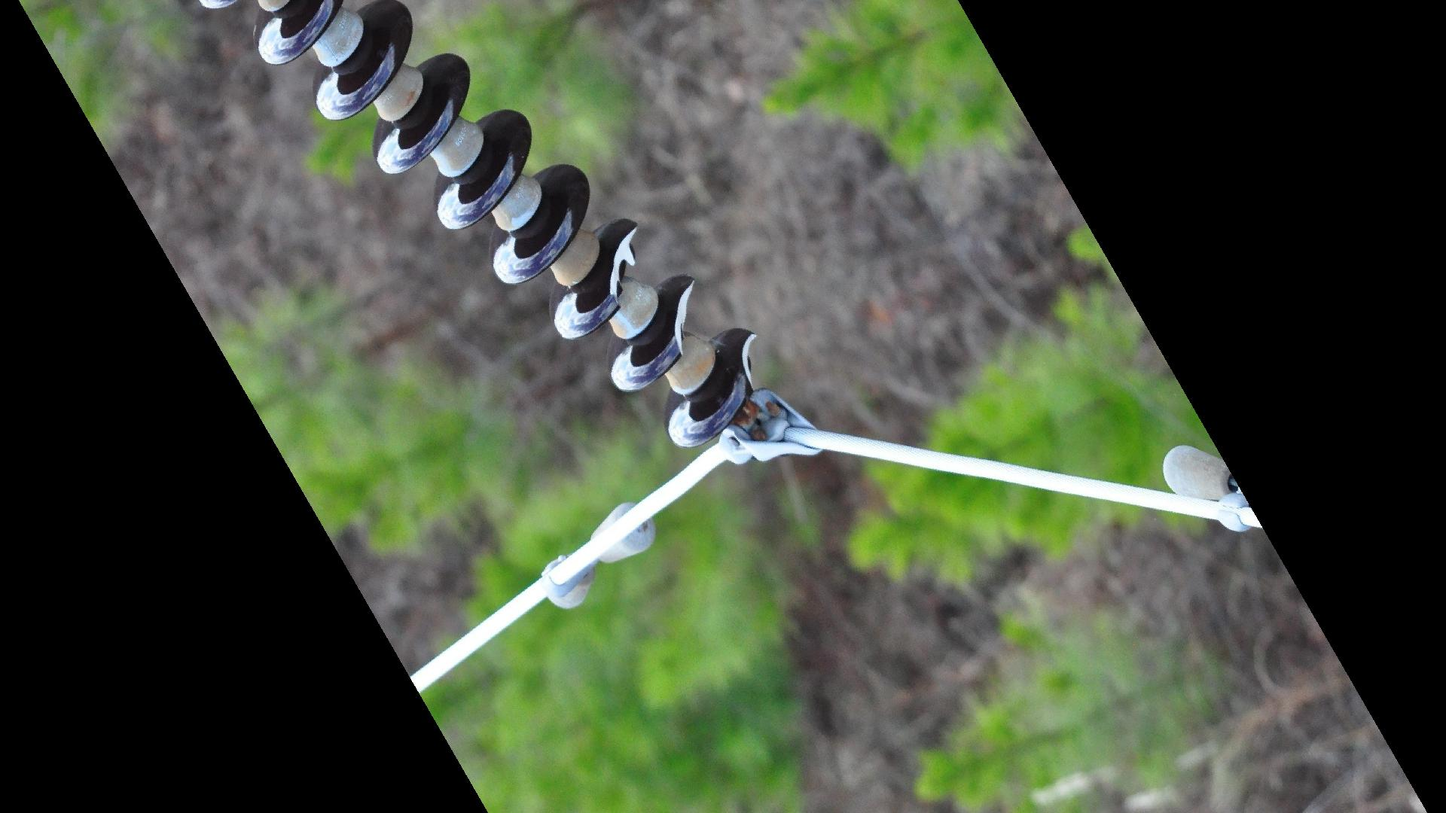insulator: (194, 1, 763, 456)
insulator_breakage: (597, 215, 645, 320), (665, 272, 705, 367), (733, 322, 767, 402)
